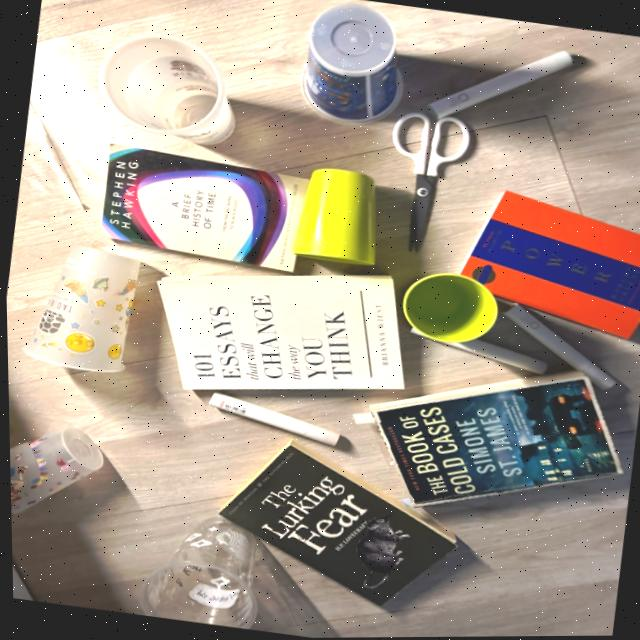Book: (217, 441, 454, 607), (370, 376, 619, 505), (432, 192, 640, 342), (158, 276, 402, 390), (101, 145, 306, 273)
HighLight Pen: (427, 51, 572, 118), (502, 305, 614, 390), (207, 393, 339, 447), (410, 329, 546, 375)
Plastic Cup: (24, 246, 139, 372), (99, 37, 233, 142), (138, 518, 254, 630), (303, 5, 404, 125), (8, 428, 101, 516)
Scissors: (392, 114, 449, 251), (423, 116, 467, 173)
WaterGlass: (292, 169, 375, 265), (401, 274, 497, 343)
